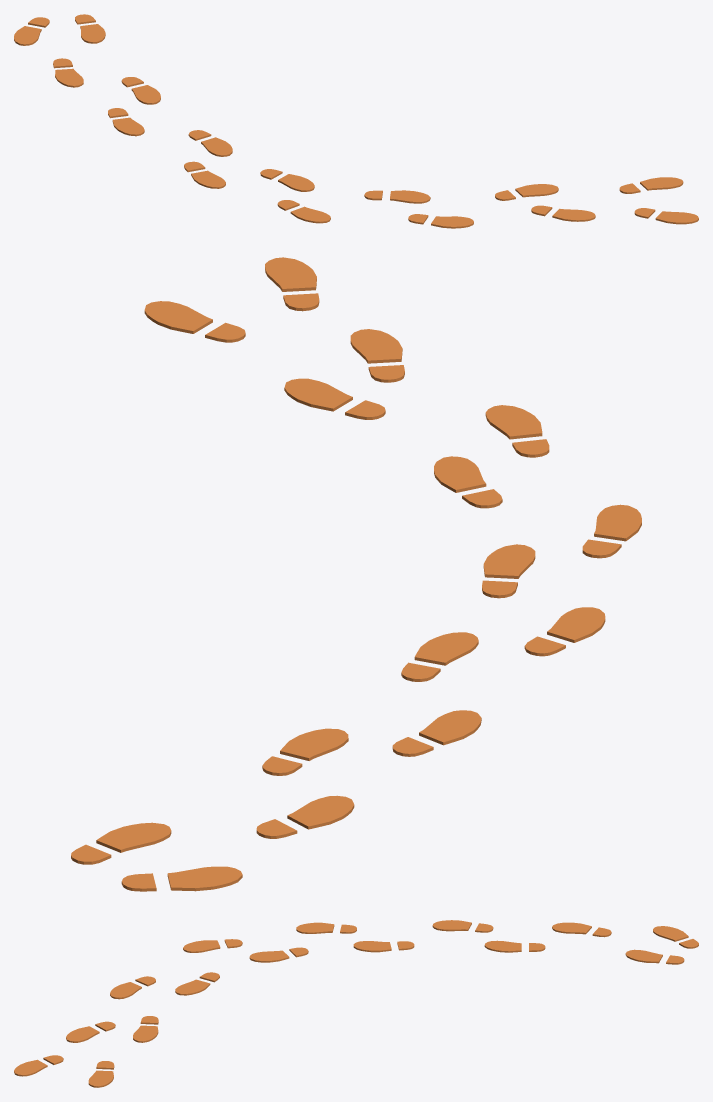
File: footprints vendor.glb
3 renders of one model, top to bottom at view 1: azimuth 30°, elevation 25°; view 2: azimuth 150°, elevation 25°; view 3: azimuth 270°, elevation 25°, orthographic. The views are drawn at different scales.
Visible parts, largest first — view 1: Plane.013; view 2: Plane.013; view 3: Plane.013.
Boxes of the visible parts, x1,y1,x2,y2 form: Plane.013: (14,14,698,228); Plane.013: (71,257,641,891); Plane.013: (14,920,698,1087).
Size of the model in its own units: 1.85 by 0.0078 by 3.22.
